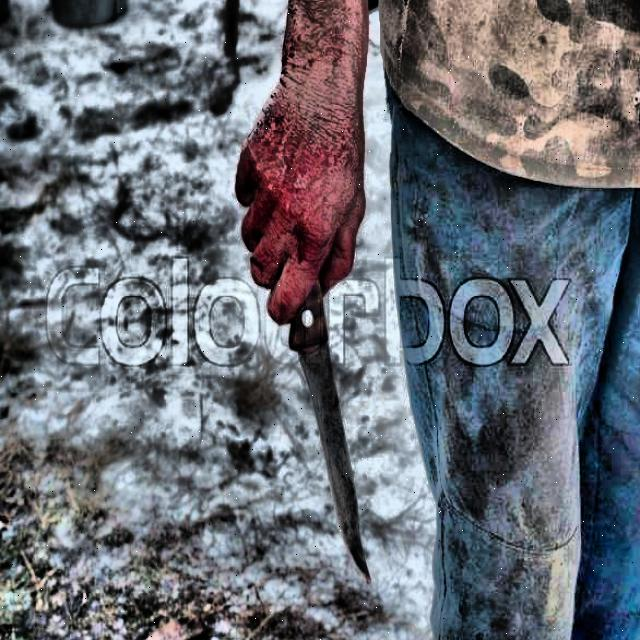knife: (289, 274, 367, 582)
